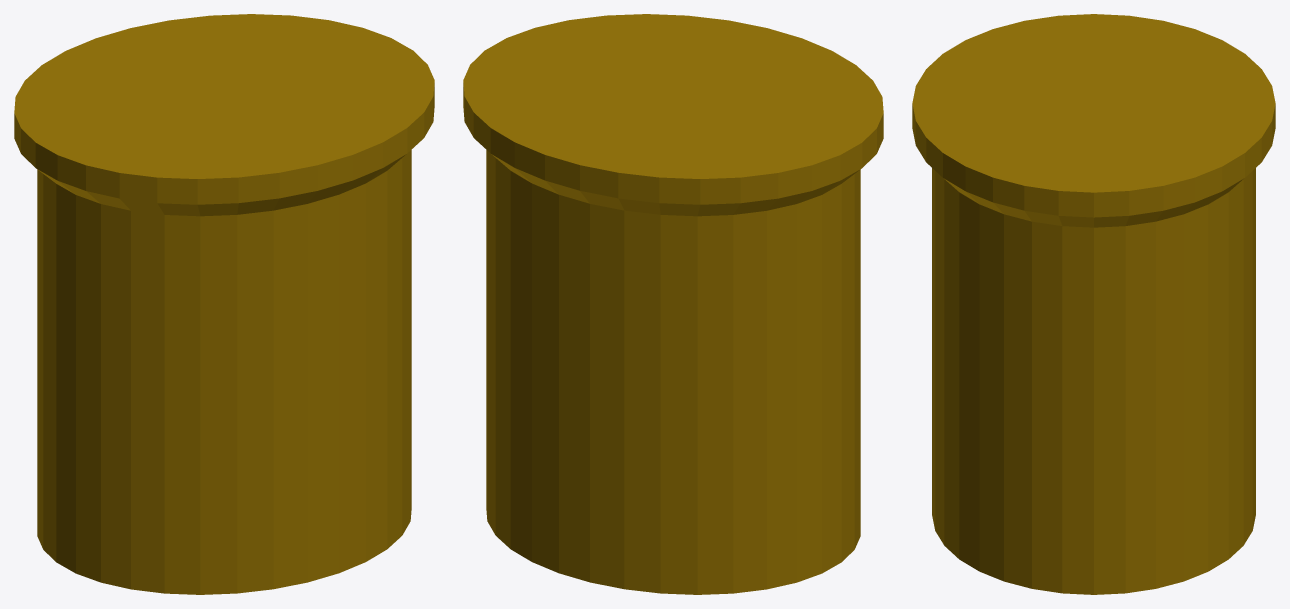
The model's file is dome-base.dae.
3 views of the same model, side by side, from view 1: azimuth 30°, elevation 25°; view 2: azimuth 150°, elevation 25°; view 3: azimuth 270°, elevation 25° (orthographic). The views are drawn at different scales.
Parts seen in each view (by area): view 1: Cylinder_026; view 2: Cylinder_026; view 3: Cylinder_026.
Boxes of the visible parts, x1,y1,x2,y2 form: Cylinder_026: (14,14,434,594); Cylinder_026: (463,14,883,594); Cylinder_026: (912,14,1275,594).
Bounding box in the file's own units: 0.4786 × 0.4113 × 0.5148.
